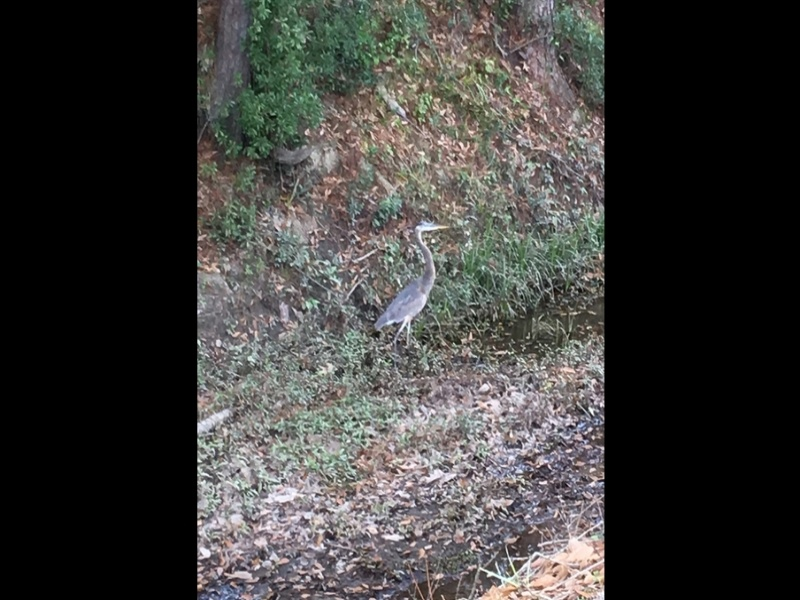heron: (376, 222, 449, 355)
